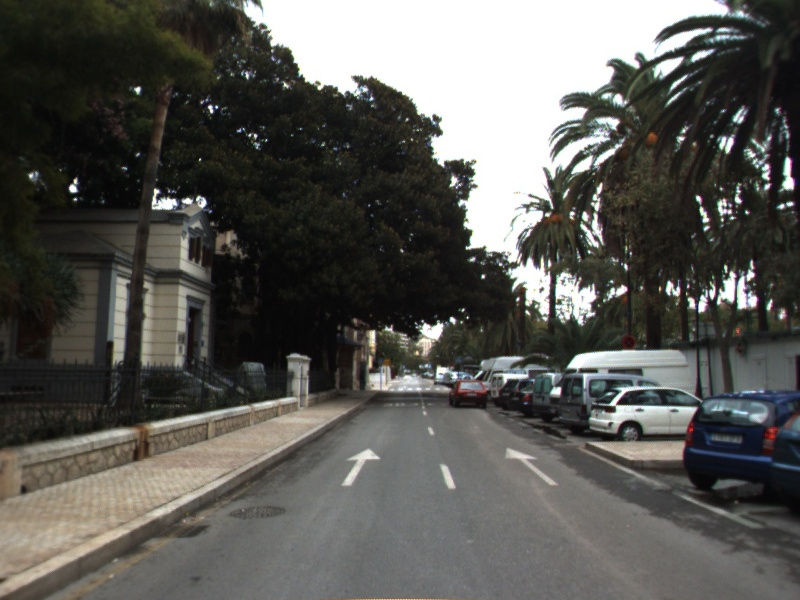STRAIGHT: (503, 446, 560, 487), (340, 446, 382, 488)
